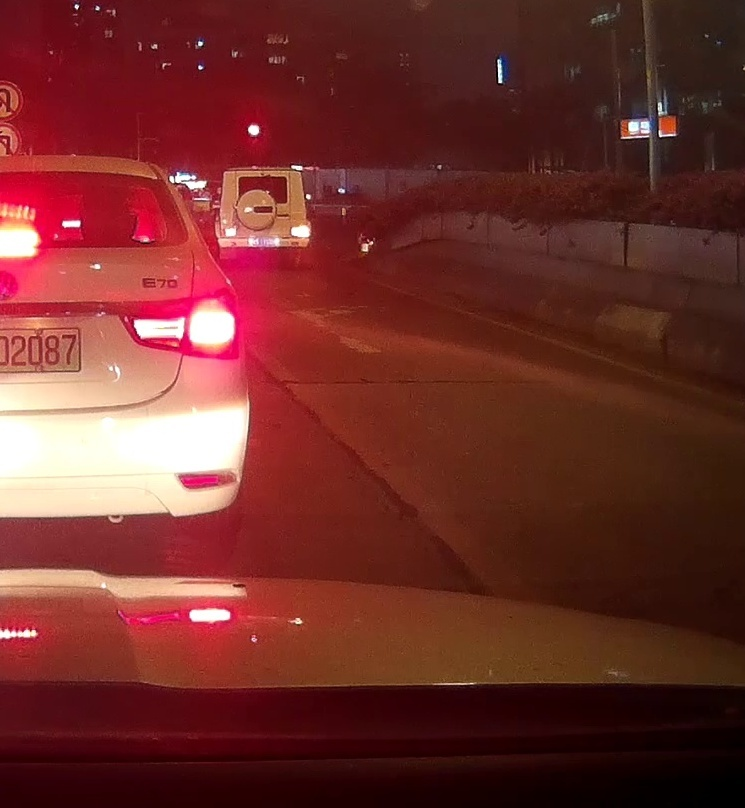L_light: (223, 227, 238, 237)
R_light: (290, 226, 309, 238)
T_light: (257, 177, 272, 180)
night-right: (216, 166, 309, 271)
